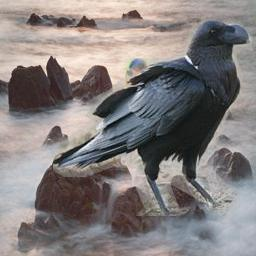Crow: (53, 19, 254, 216)
Swallow: (125, 58, 165, 143)
